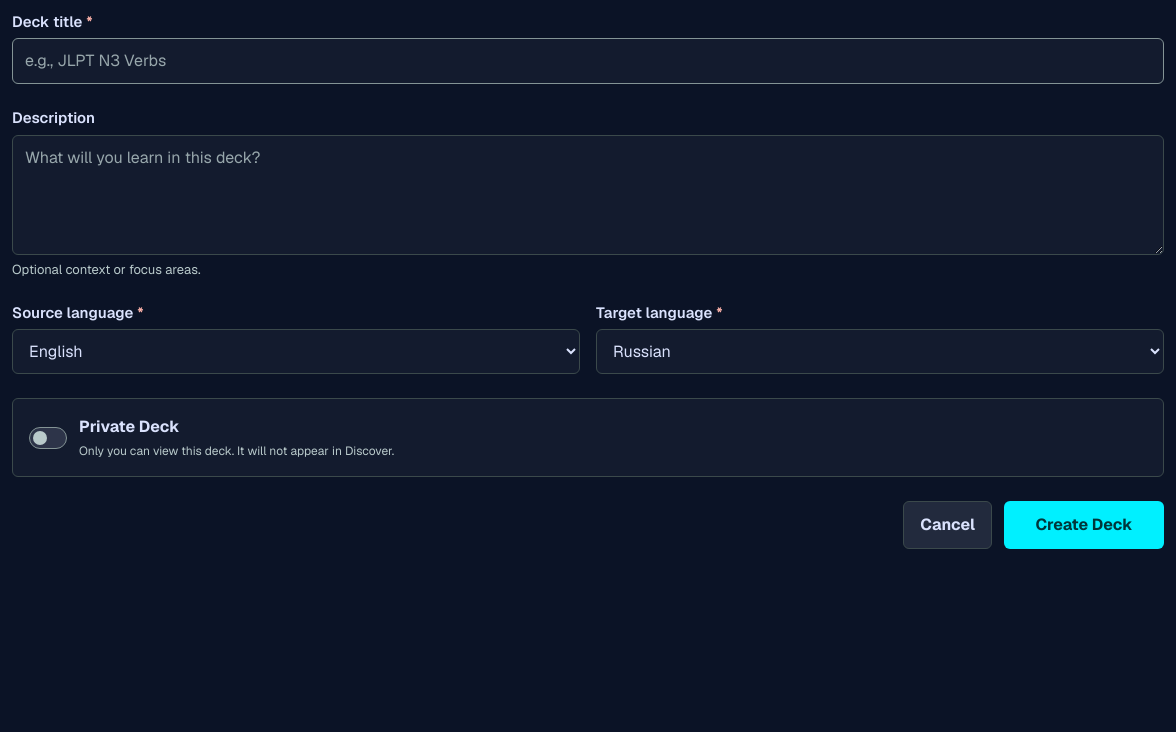
Test: CreateDeckForm › shows client validation before submitting an empty title
The image size is (1176, 732).
Step 1. Click the button "Create Deck" → (1084, 525), box [1004,501,1164,549]
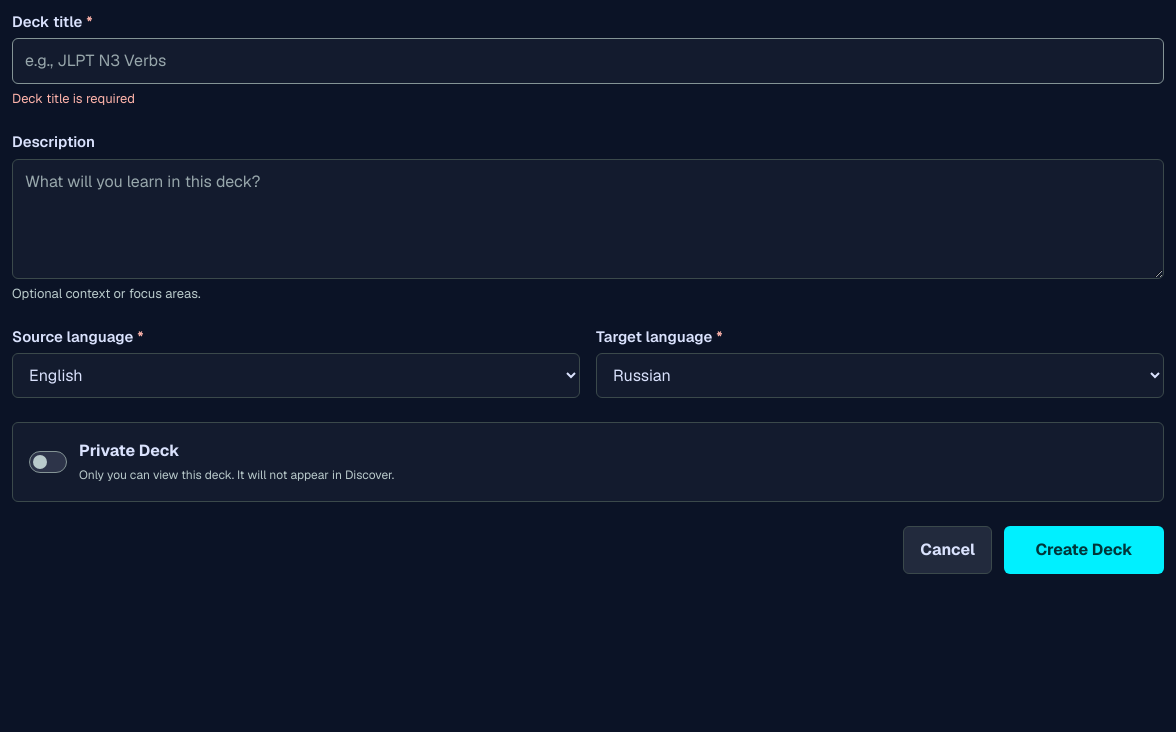
Expected: the text "Deck title is required" is shown, [12,90,135,107]
